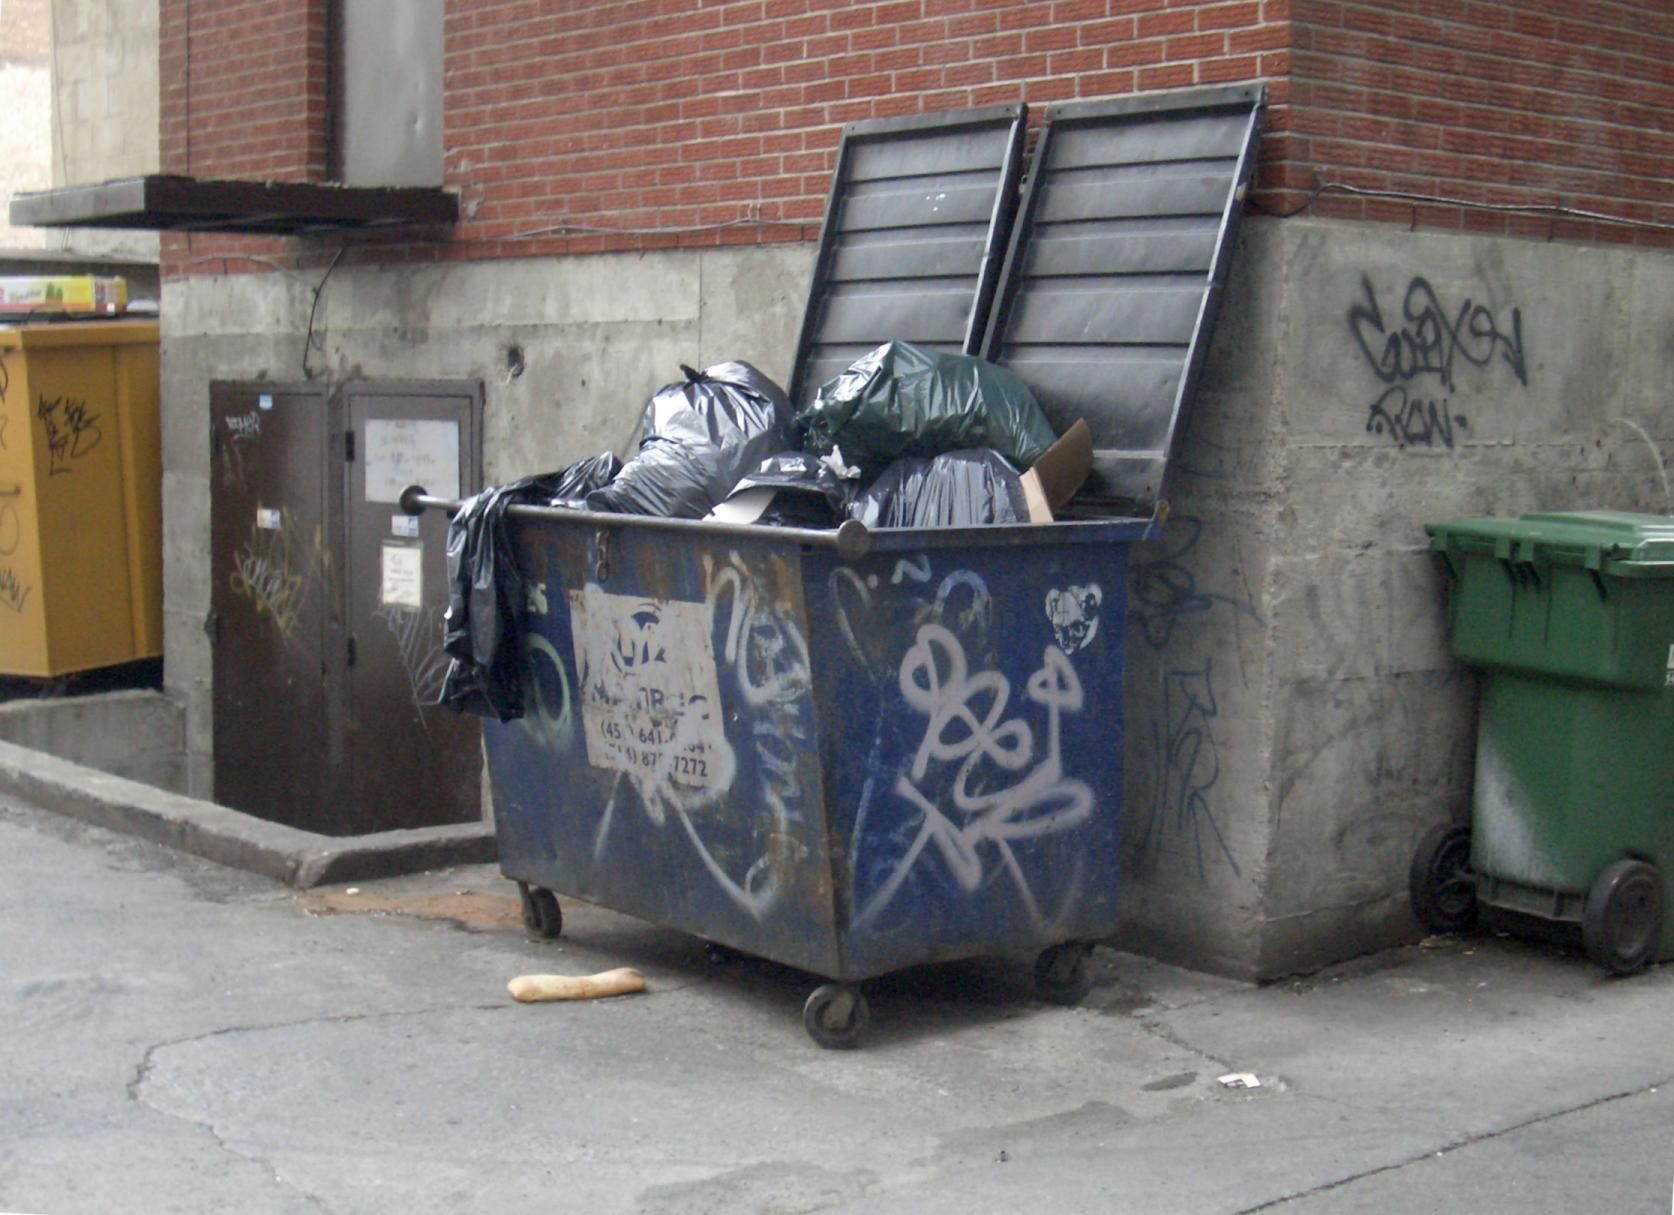Dumpster: (441, 92, 1298, 1064)
